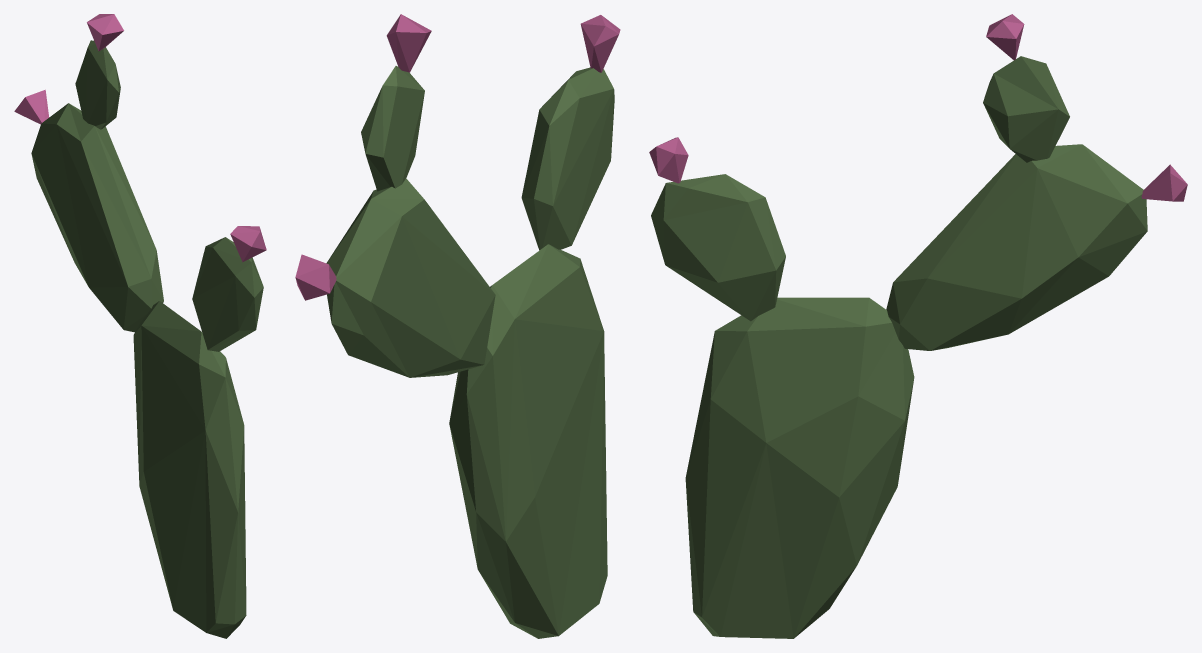
Rendered from CactusFlowers_5.lod2.glb.
The picture shows the model from 3 angles, left to right: view 1: azimuth 30°, elevation 25°; view 2: azimuth 150°, elevation 25°; view 3: azimuth 270°, elevation 25°; orthographic projection. The views are drawn at different scales.
Parts seen in each view (by area): view 1: CactusFlowers_5; view 2: CactusFlowers_5; view 3: CactusFlowers_5.
Part boxes in pixels (x1,y1,x2,y2): CactusFlowers_5: (14, 14, 266, 638); CactusFlowers_5: (295, 14, 620, 638); CactusFlowers_5: (649, 14, 1187, 638).
Size of the model in its own units: 0.1106 by 0.9365 by 0.7331.
